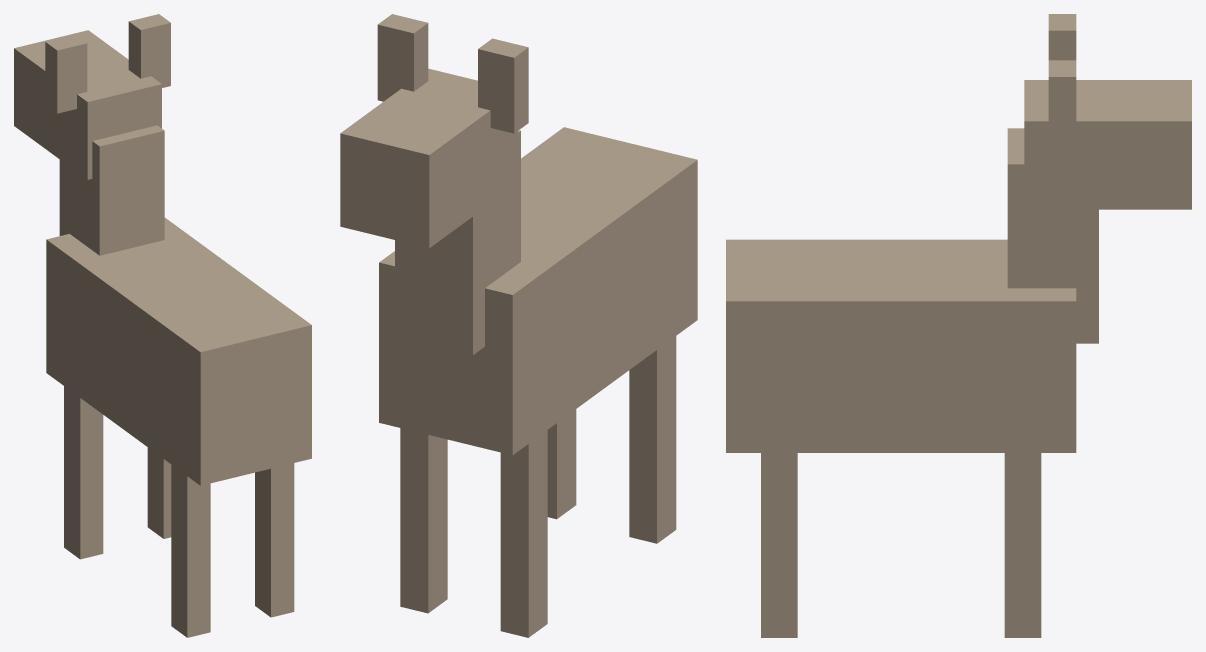
Rendered from deer.gltf.
3 views of the same model, side by side, from view 1: azimuth 30°, elevation 25°; view 2: azimuth 150°, elevation 25°; view 3: azimuth 270°, elevation 25° (orthographic). The views are drawn at different scales.
Visible parts, largest first — view 1: body_0, head_2, neck_1, leg_4, leg_3, leg_7, ear_5, ear_8, leg_6; view 2: body_0, head_2, neck_1, leg_3, leg_4, leg_6, ear_5, ear_8, leg_7; view 3: body_0, head_2, neck_1, leg_6, leg_7, ear_8, ear_5.
Part boxes in pixels (x1,y1,x2,y2): body_0: (46,217,311,485); head_2: (14,30,161,179); neck_1: (59,125,164,255); leg_4: (171,465,210,637); leg_3: (64,386,103,559); leg_7: (255,463,294,617); ear_5: (45,34,87,113); ear_8: (128,14,170,87); leg_6: (147,447,171,538); body_0: (379,127,697,455); head_2: (340,68,517,248); neck_1: (395,130,520,355); leg_3: (500,430,547,637); leg_4: (629,336,676,543); leg_6: (400,428,447,613); ear_5: (478,38,528,133); ear_8: (377,14,428,101); leg_7: (547,409,576,519); body_0: (726,239,1076,452); head_2: (1024,80,1191,209); neck_1: (1007,128,1098,343); leg_6: (1004,453,1041,637); leg_7: (761,453,797,637); ear_8: (1048,60,1076,148); ear_5: (1048,14,1076,60).
Bounding box in the file's own units: 0.49 × 2.04 × 1.53.
